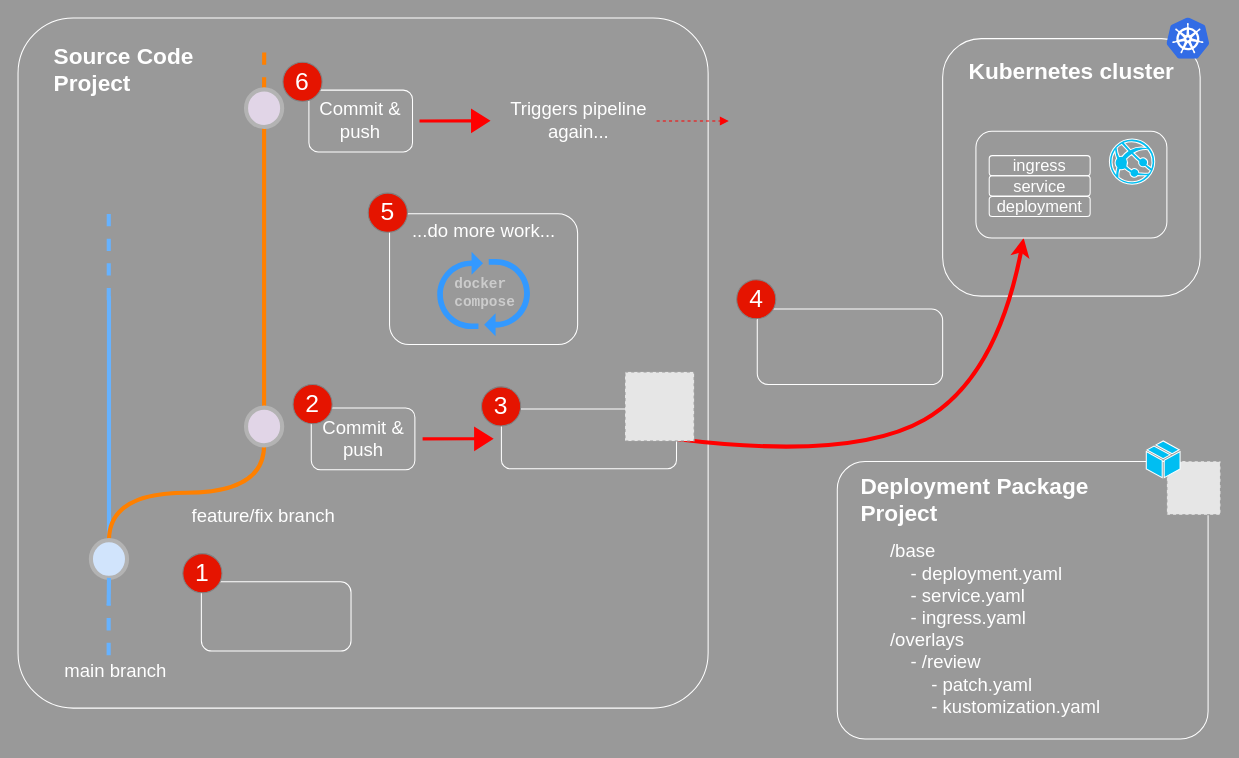
The diagram is 1239 pixels wide and 758 high, and some of its shapes have lost their labels. Grey dashed boxes stand in for pictures. The centre of each missing label's shape, as x and y in pixels:
"Applies Deployment Package to a cluster" belongs at point 849,346.
"Create issue, merge request, and branch" belongs at point 275,616.
"Triggers pipeline" belongs at point 588,438.
